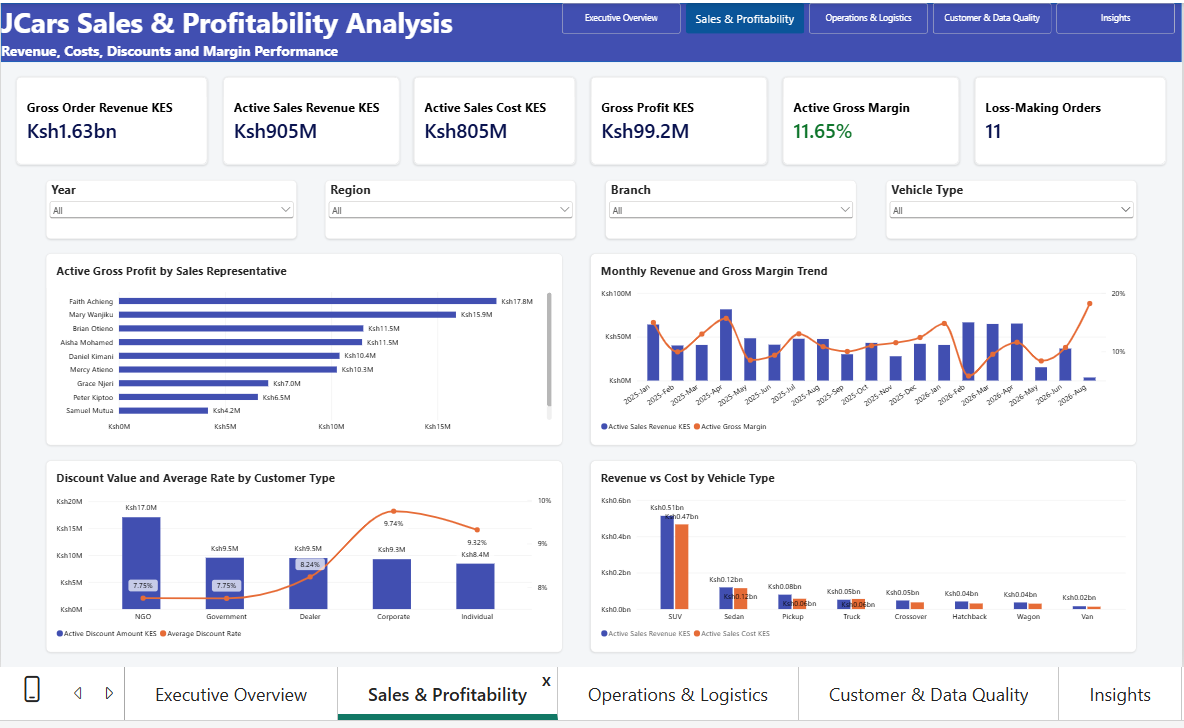

The dashboard page shown, as its layout file describes it:
{"tool":"powerbi","page":{"name":"Sales & Profitability","canvas":[1920,1080],"ordinal":1},"visuals":[{"type":"shape","box":[0,0,1920,96],"z":0},{"type":"textbox","title":"JCars Sales & Profitability Analysis","box":[0,0,1920,96],"z":1000},{"type":"cardVisual","fields":{"Data":["_Measures.Gross Order Revenue KES"]},"box":[24,120,312,144],"z":2000},{"type":"cardVisual","fields":{"Data":["_Measures.Active Sales Revenue KES"]},"box":[360,120,288,144],"z":3000},{"type":"cardVisual","fields":{"Data":["_Measures.Gross Profit KES"]},"box":[960,120,288,144],"z":4000},{"type":"cardVisual","fields":{"Data":["_Measures.Active Gross Margin"]},"box":[1272,120,288,144],"z":5000},{"type":"cardVisual","title":"Loss-Making Orders","fields":{"Data":["_Measures.Negative-Profit Active Orders"]},"box":[1584,120,312,144],"z":6000},{"type":"cardVisual","fields":{"Data":["_Measures.Active Sales Cost KES"]},"box":[672,120,264,144],"z":7000},{"type":"lineClusteredColumnComboChart","title":"Monthly Revenue and Gross Margin Trend","fields":{"Category":["DimDate.Year Month"],"Y":["_Measures.Active Sales Revenue KES"],"Y2":["_Measures.Active Gross Margin"]},"box":[960,408,888,312],"z":8000},{"type":"clusteredBarChart","title":"Active Gross Profit by Sales Representative","fields":{"Category":["DimSalesRep.Sales Rep"],"Y":["_Measures.Gross Profit KES"]},"box":[72,408,840,312],"z":9000},{"type":"lineClusteredColumnComboChart","title":"Discount Value and Average Rate by Customer Type","fields":{"Category":["FactSalesOrders.Customer Type"],"Y":["_Measures.Active Discount Amount KES"],"Y2":["_Measures.Average Discount Rate"]},"box":[72,744,840,312],"z":10000},{"type":"clusteredColumnChart","title":"Revenue vs Cost by Vehicle Type","fields":{"Category":["DimVehicle.Vehicle Type"],"Y":["_Measures.Active Sales Revenue KES","_Measures.Active Sales Cost KES"]},"box":[960,744,888,312],"z":11000},{"type":"slicer","fields":{"Values":["DimDate.Year"]},"box":[72,288,408,96],"z":12000},{"type":"slicer","fields":{"Values":["DimBranch.Region"]},"box":[528,288,408,96],"z":13000},{"type":"slicer","fields":{"Values":["DimBranch.Branch"]},"box":[984,288,408,96],"z":14000},{"type":"slicer","fields":{"Values":["DimVehicle.Vehicle Type"]},"box":[1440,288,408,96],"z":15000},{"type":"pageNavigator","box":[912,0,1000,50],"z":16000}]}

Visuals, with their boxes on the page's 1920x1080 design canvas (x1, y1, x2, y2). These are canvas units, not pixel positions in the 1184x728 screenshot, which may show the page scaled, cropped or inside an application window:
shape: 0 0 1920 96
"JCars Sales & Profitability Analysis" textbox: 0 0 1920 96
cardVisual - _Measures.Gross Order Revenue KES: 24 120 336 264
cardVisual - _Measures.Active Sales Revenue KES: 360 120 648 264
cardVisual - _Measures.Gross Profit KES: 960 120 1248 264
cardVisual - _Measures.Active Gross Margin: 1272 120 1560 264
"Loss-Making Orders" cardVisual: 1584 120 1896 264
cardVisual - _Measures.Active Sales Cost KES: 672 120 936 264
"Monthly Revenue and Gross Margin Trend" lineClusteredColumnComboChart: 960 408 1848 720
"Active Gross Profit by Sales Representative" clusteredBarChart: 72 408 912 720
"Discount Value and Average Rate by Customer Type" lineClusteredColumnComboChart: 72 744 912 1056
"Revenue vs Cost by Vehicle Type" clusteredColumnChart: 960 744 1848 1056
slicer - DimDate.Year: 72 288 480 384
slicer - DimBranch.Region: 528 288 936 384
slicer - DimBranch.Branch: 984 288 1392 384
slicer - DimVehicle.Vehicle Type: 1440 288 1848 384
pageNavigator: 912 0 1912 50
